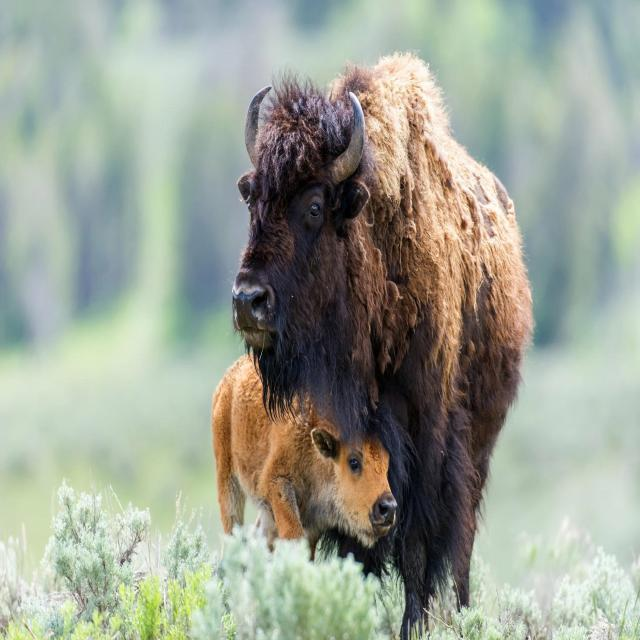bison: (233, 54, 533, 638), (212, 355, 397, 558)
